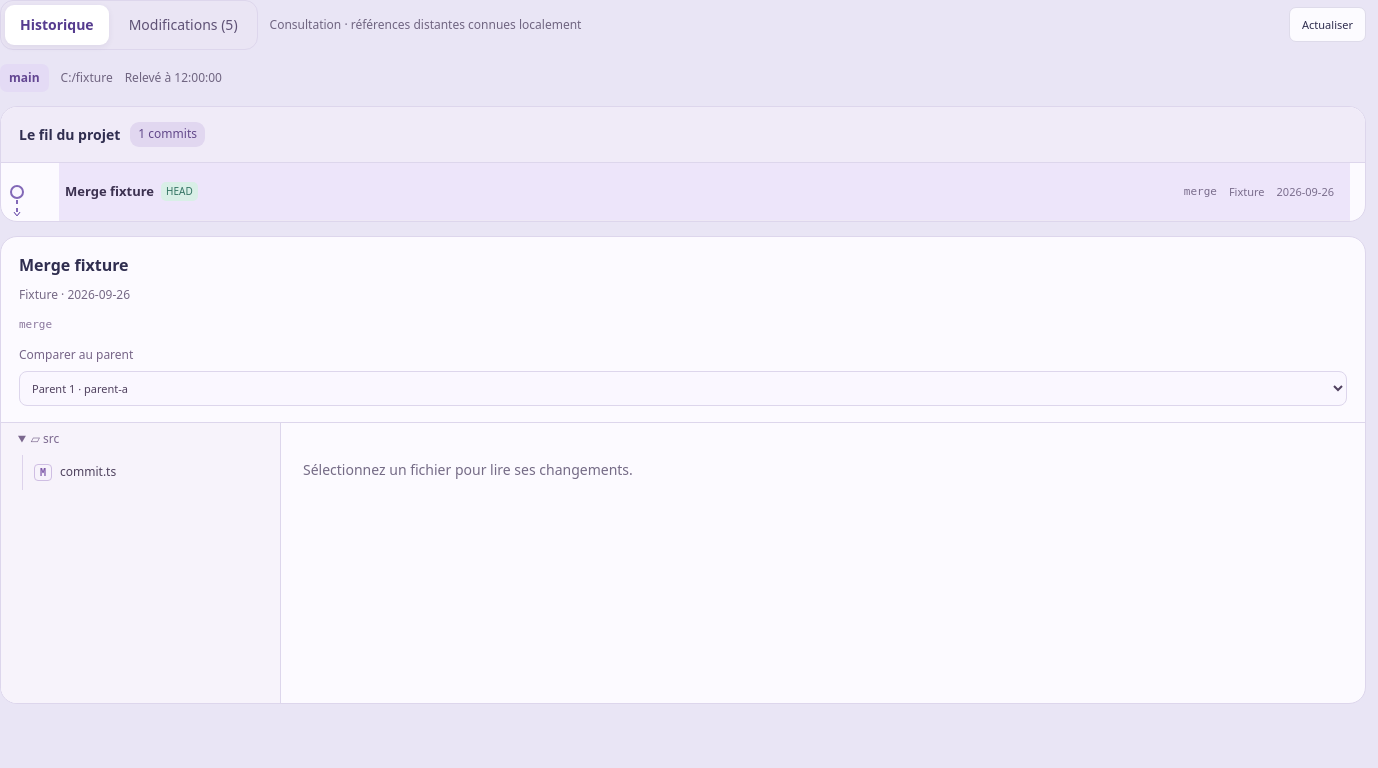
coming back to the window re-reads Git silently and keeps the open diff
The image size is (1378, 768).
Expected: the heading "Merge fixture" is shown, [19,254,129,276]
Step 1. Click the button "M commit.ts" → (154, 472), box [29,455,280,490]
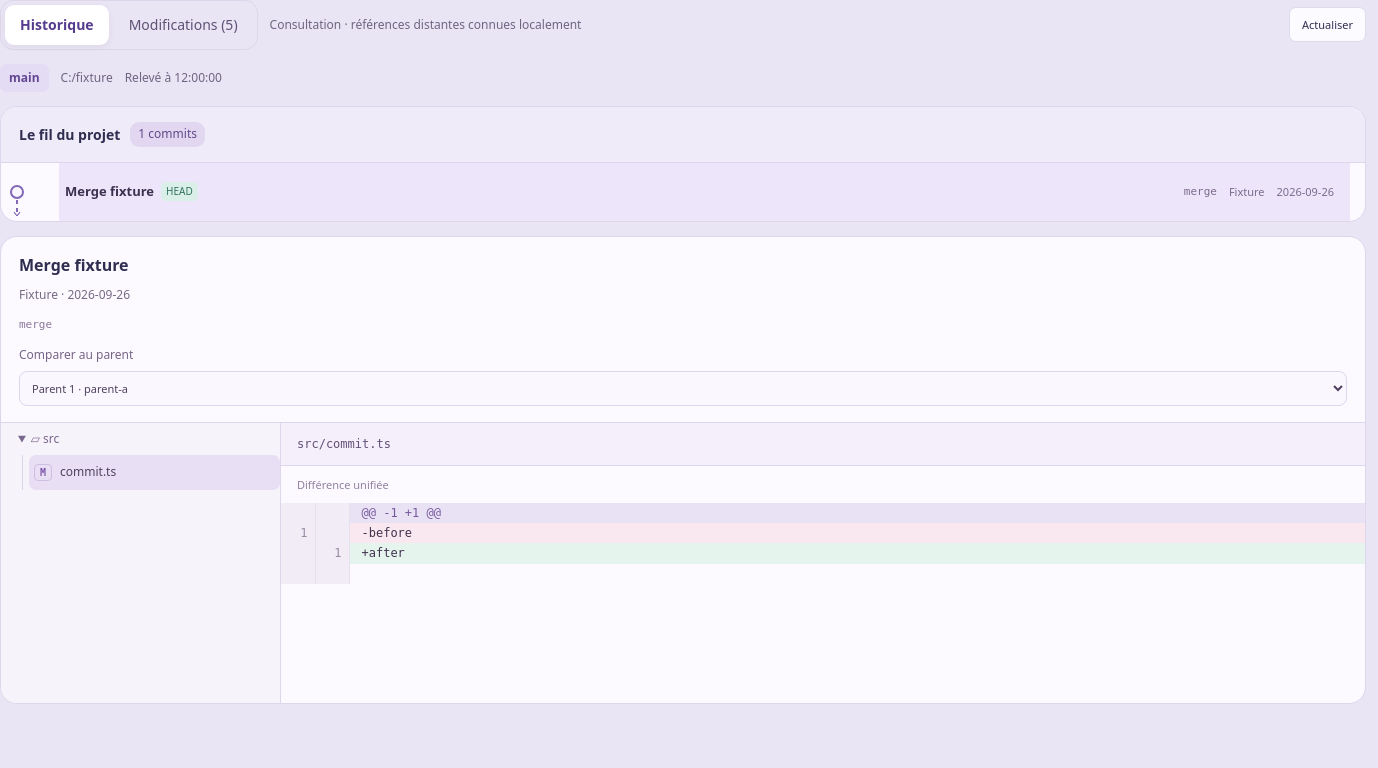
Expected: the text "+after" is shown, [362,546,405,560]
